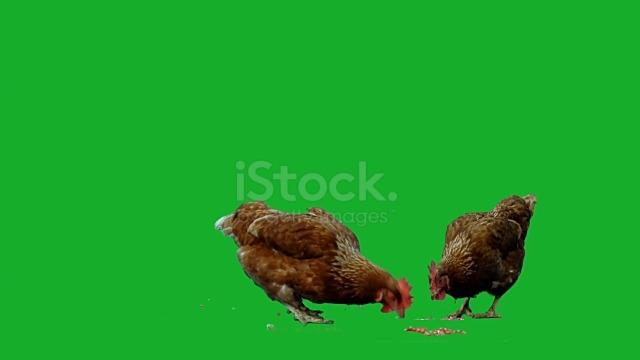Normal: (212, 192, 415, 326), (429, 186, 538, 309)
